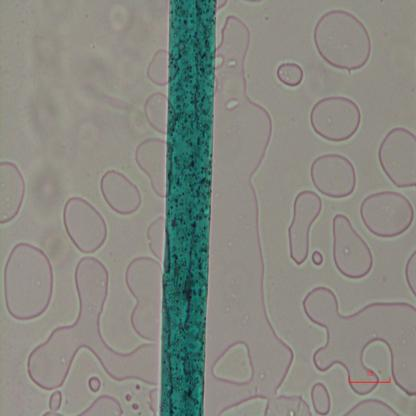Air bubble: (213, 15, 306, 415), (27, 256, 158, 390), (300, 283, 416, 398), (1, 240, 55, 322), (314, 9, 372, 72), (330, 211, 376, 281), (125, 255, 161, 341), (359, 188, 415, 240), (286, 188, 322, 267), (63, 196, 108, 255), (309, 95, 362, 144), (377, 124, 416, 190), (309, 154, 359, 200), (212, 338, 256, 386), (135, 136, 166, 199), (0, 157, 27, 226), (101, 171, 143, 214), (76, 392, 124, 416), (343, 396, 402, 415), (143, 90, 168, 134), (226, 394, 272, 415), (274, 57, 305, 88), (147, 215, 167, 261), (147, 48, 169, 87), (310, 381, 332, 415), (402, 248, 416, 300), (44, 390, 63, 415), (87, 373, 102, 394), (310, 248, 325, 268)
Microfibre: (158, 0, 218, 415)
